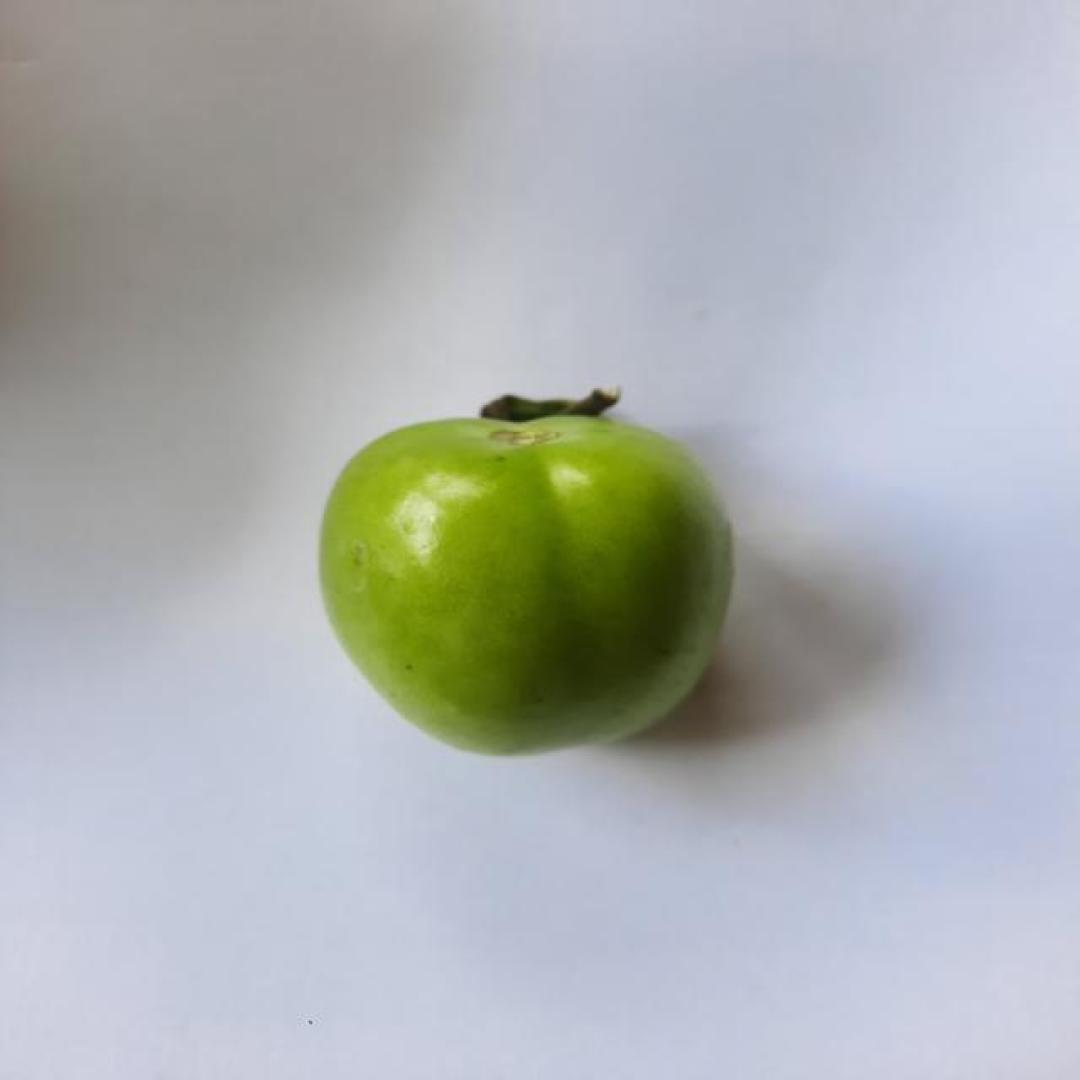mentah: (318, 385, 738, 759)
